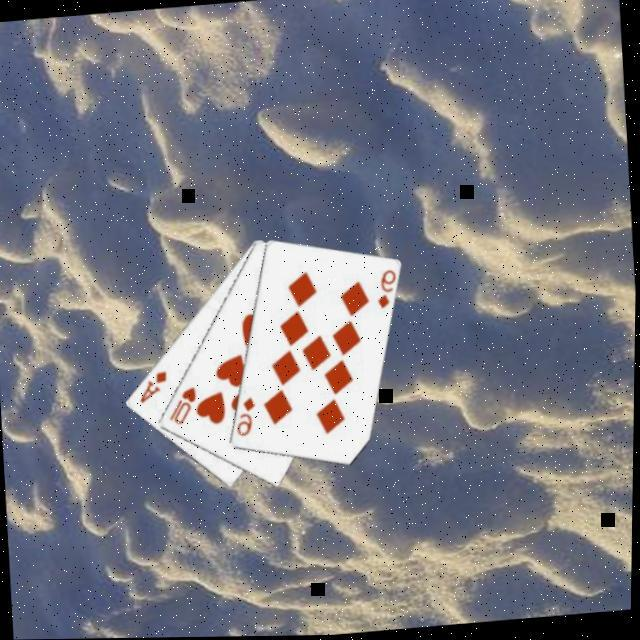10H: (162, 383, 200, 427)
9D: (369, 266, 398, 312), (230, 393, 258, 439)
AD: (134, 366, 170, 404)
